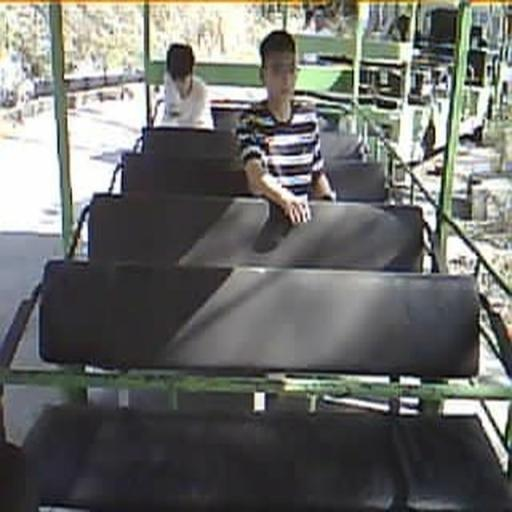persona: (234, 29, 336, 227), (156, 41, 214, 131)
